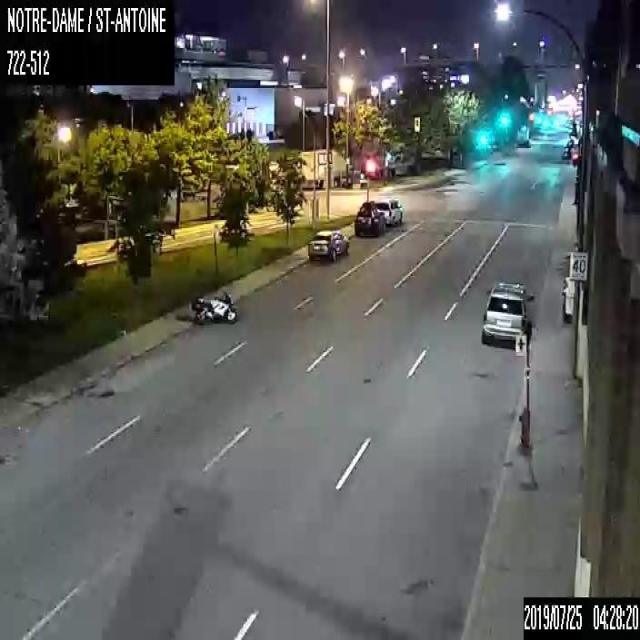vehicle: (479, 277, 527, 344), (307, 225, 348, 260), (191, 294, 235, 322), (354, 200, 385, 236), (374, 197, 402, 225)
